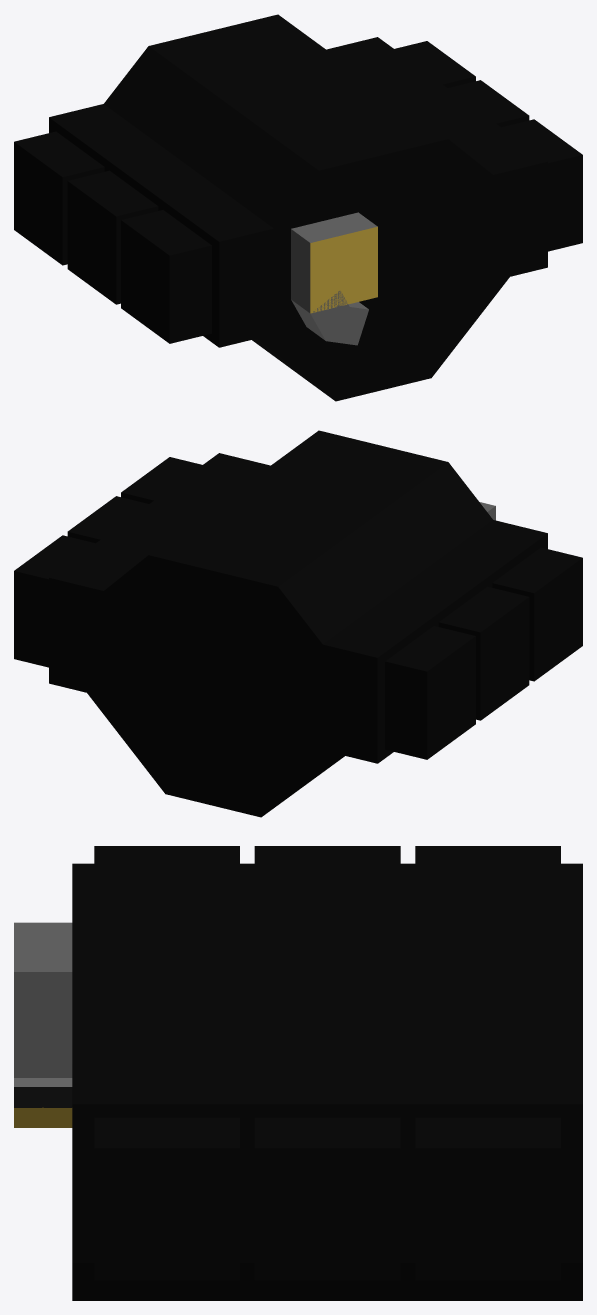
File: v6insolvoboxerturbo.obj
3 views of the same model, one above another, from view 1: azimuth 30°, elevation 25°; view 2: azimuth 150°, elevation 25°; view 3: azimuth 270°, elevation 25° (orthographic). The views are drawn at different scales.
Parts seen in each view (by area): view 1: cube, turbo; view 2: cube; view 3: cube, turbo.
Boxes of the visible parts, x1,y1,x2,y2 form: cube: (14, 14, 582, 401); turbo: (291, 212, 377, 345); cube: (14, 430, 582, 817); cube: (72, 846, 582, 1300); turbo: (14, 922, 72, 1127).
Size of the model in its own units: 0.766 by 0.4161 by 0.6094.
